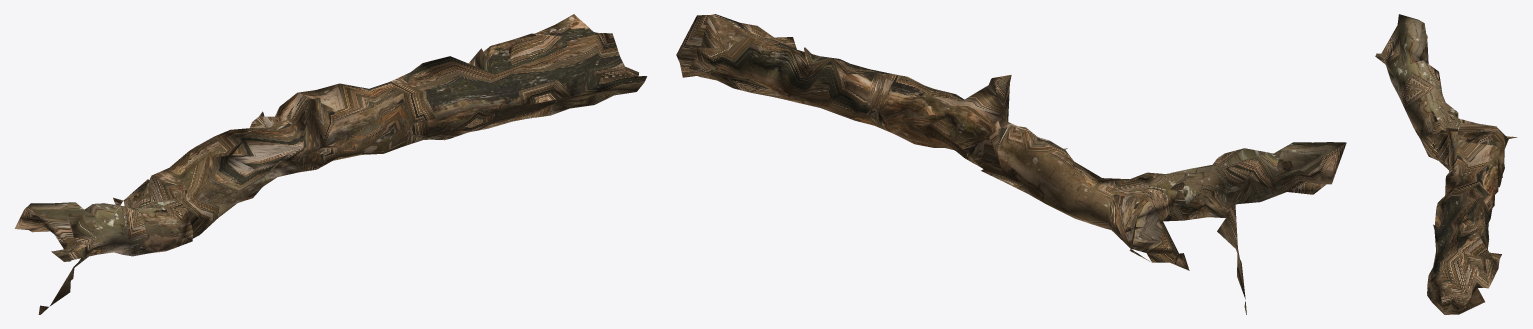
File: dead_tree_trunk_02_lod1.glb
3 views of the same model, side by side, from view 1: azimuth 30°, elevation 25°; view 2: azimuth 150°, elevation 25°; view 3: azimuth 270°, elevation 25° (orthographic). The views are drawn at different scales.
Visible parts, largest first — view 1: dead_tree_trunk_02; view 2: dead_tree_trunk_02; view 3: dead_tree_trunk_02.
Part boxes in pixels (x1,y1,x2,y2): dead_tree_trunk_02: [14, 14, 647, 314]; dead_tree_trunk_02: [676, 14, 1346, 314]; dead_tree_trunk_02: [1375, 14, 1517, 314].
Size of the model in its own units: 3.97 by 1.02 by 0.9331.
1 material, 1 textured.
